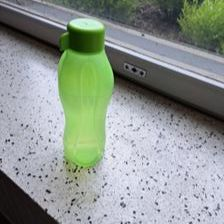bottle: (55, 17, 117, 166)
